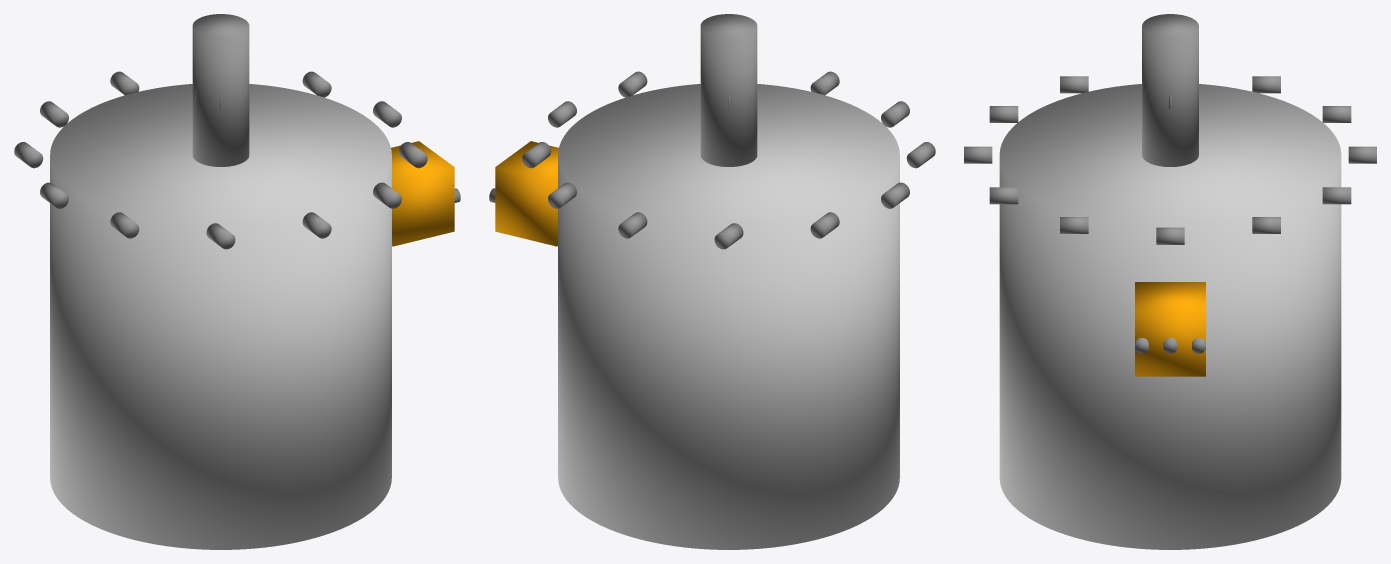
Rendered from motor.fbx.
3 renders of one model, left to right at view 1: azimuth 30°, elevation 25°; view 2: azimuth 150°, elevation 25°; view 3: azimuth 270°, elevation 25°, orthographic.
Parts seen in each view (by area): view 1: Motor_Housing.001, Shaft.001, Power_Connector.001; view 2: Motor_Housing.001, Shaft.001, Power_Connector.001; view 3: Motor_Housing.001, Shaft.001, Power_Connector.001, Bolt_10.001, Bolt_2.001, Bolt_0.001, Bolt_3.001, Bolt_9.001, Bolt_5.001, Bolt_7.001, Bolt_4.001, Bolt_8.001.
Part boxes in pixels (x1=…): Motor_Housing.001: x1=50, y1=84, x2=391, y2=549; Shaft.001: x1=192, y1=14, x2=249, y2=166; Power_Connector.001: x1=391, y1=141, x2=454, y2=246; Motor_Housing.001: x1=558, y1=84, x2=899, y2=549; Shaft.001: x1=700, y1=14, x2=757, y2=166; Power_Connector.001: x1=495, y1=141, x2=558, y2=246; Motor_Housing.001: x1=999, y1=84, x2=1341, y2=549; Shaft.001: x1=1142, y1=14, x2=1198, y2=166; Power_Connector.001: x1=1135, y1=282, x2=1205, y2=376; Bolt_10.001: x1=989, y1=187, x2=1018, y2=204; Bolt_2.001: x1=1322, y1=187, x2=1351, y2=204; Bolt_0.001: x1=1156, y1=227, x2=1184, y2=244; Bolt_3.001: x1=1348, y1=146, x2=1376, y2=163; Bolt_9.001: x1=964, y1=146, x2=992, y2=163; Bolt_5.001: x1=1252, y1=76, x2=1280, y2=93; Bolt_7.001: x1=1060, y1=76, x2=1088, y2=93; Bolt_4.001: x1=1322, y1=106, x2=1351, y2=122; Bolt_8.001: x1=989, y1=106, x2=1018, y2=122.
Size of the model in its own units: 321 by 350 by 290.
